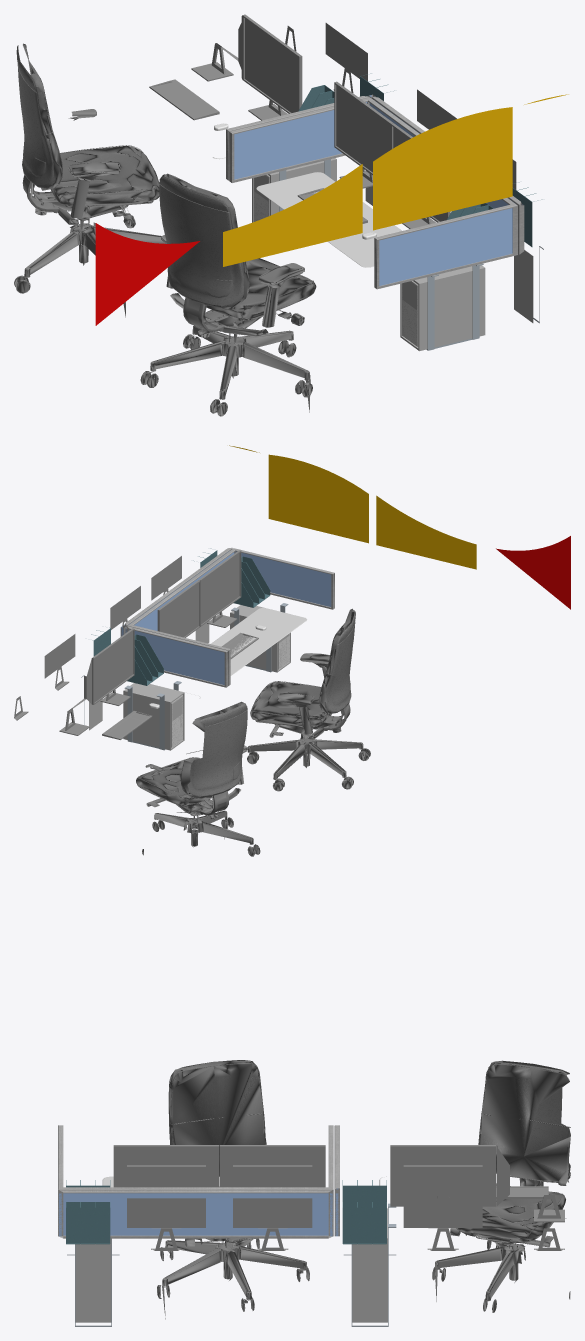
File: office_station.glb
The picture shows the model from 3 angles, top to bottom: view 1: azimuth 30°, elevation 25°; view 2: azimuth 150°, elevation 25°; view 3: azimuth 270°, elevation 25°; orthographic projection. The views are drawn at different scales.
Parts seen in each view (by area): view 1: Color_007, _039_DarkOrange, _135_DarkGray, Mate_jjkjnet_1, Translucent_Glass_Blue, _133_Gray, _020_Red, Aluminum, _131_Silver, Plastic_Red, _111_SlateGray; view 2: Color_007, _135_DarkGray, _039_DarkOrange, Mate_jjkjnet_1, Translucent_Glass_Blue, _133_Gray, _131_Silver, Plastic_Red, Aluminum, _020_Red, _111_SlateGray; view 3: _135_DarkGray, Mate_jjkjnet_1, Color_007, _133_Gray, Translucent_Glass_Blue, Plastic_Red, Aluminum, _111_SlateGray.
Part boxes in pixels (x1,y1,x2,y2): Color_007: [14, 45, 312, 416]; _039_DarkOrange: [223, 94, 568, 266]; _135_DarkGray: [149, 14, 516, 228]; Mate_jjkjnet_1: [16, 43, 316, 320]; Translucent_Glass_Blue: [234, 95, 522, 285]; _133_Gray: [252, 158, 533, 351]; _020_Red: [95, 223, 199, 325]; Aluminum: [226, 94, 524, 289]; _131_Silver: [212, 157, 417, 346]; Plastic_Red: [298, 73, 542, 247]; _111_SlateGray: [279, 159, 543, 350]; Color_007: [142, 611, 370, 856]; _135_DarkGray: [14, 550, 258, 739]; _039_DarkOrange: [229, 445, 476, 569]; Mate_jjkjnet_1: [136, 608, 354, 806]; Translucent_Glass_Blue: [121, 551, 331, 684]; _133_Gray: [89, 605, 290, 750]; _131_Silver: [152, 608, 306, 747]; Plastic_Red: [91, 548, 270, 685]; Aluminum: [120, 547, 334, 687]; _020_Red: [496, 536, 570, 609]; _111_SlateGray: [81, 603, 288, 750]; _135_DarkGray: [113, 1145, 564, 1250]; Mate_jjkjnet_1: [168, 1060, 570, 1242]; Color_007: [157, 1060, 570, 1319]; _133_Gray: [75, 1208, 387, 1322]; Translucent_Glass_Blue: [59, 1188, 338, 1236]; Plastic_Red: [66, 1180, 386, 1244]; Aluminum: [58, 1125, 339, 1238]; _111_SlateGray: [67, 1203, 396, 1326].
Bounding box in the file's own units: 2.69 × 1.8 × 2.89.
12 materials, 3 textured.
